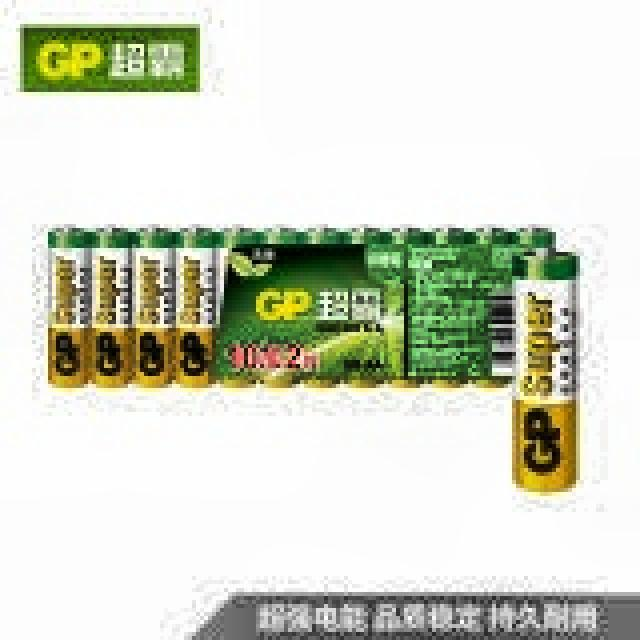Non-Valuable Waste - Batteries: (49, 229, 552, 386), (514, 249, 578, 489)
